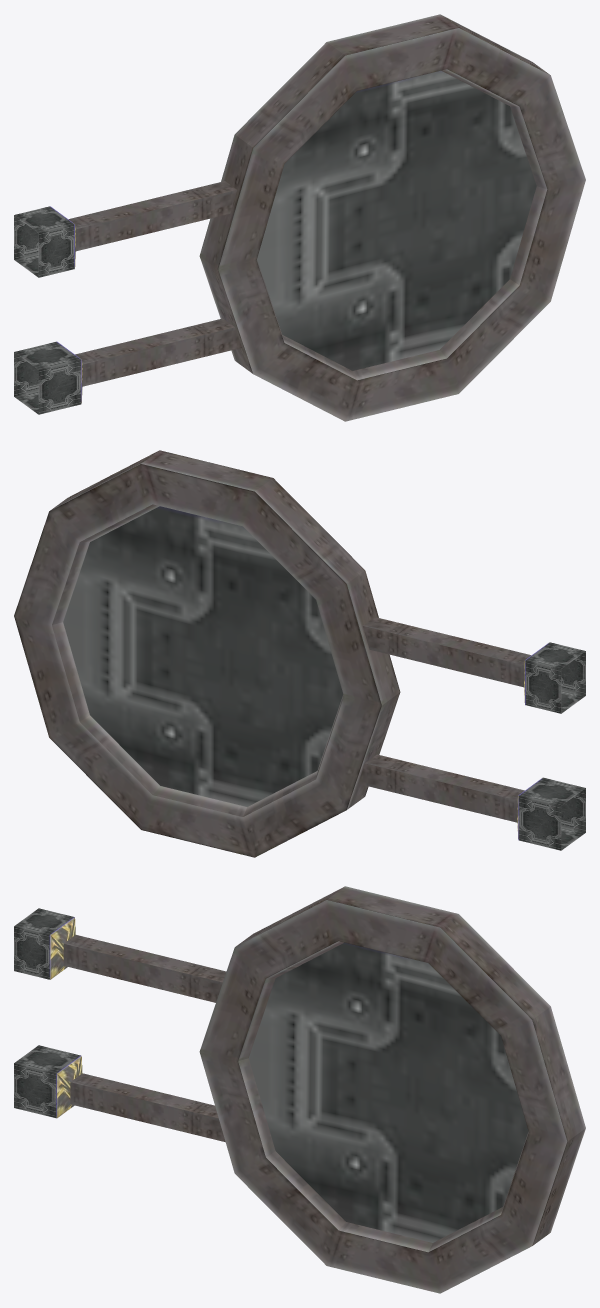
The model's file is japanese-sign-13.glb.
3 views of the same model, one above another, from view 1: azimuth 30°, elevation 25°; view 2: azimuth 150°, elevation 25°; view 3: azimuth 330°, elevation 25° (orthographic).
Visible parts, largest first — view 1: Japanese_Sign_13; view 2: Japanese_Sign_13; view 3: Japanese_Sign_13.
Boxes of the visible parts, x1,y1,x2,y2 form: Japanese_Sign_13: (14,14,585,421); Japanese_Sign_13: (14,450,585,857); Japanese_Sign_13: (14,886,585,1293).
Bounding box in the file's own units: 1.38 × 0.8782 × 0.1073.
Materials: 1 (1 with a texture image).
